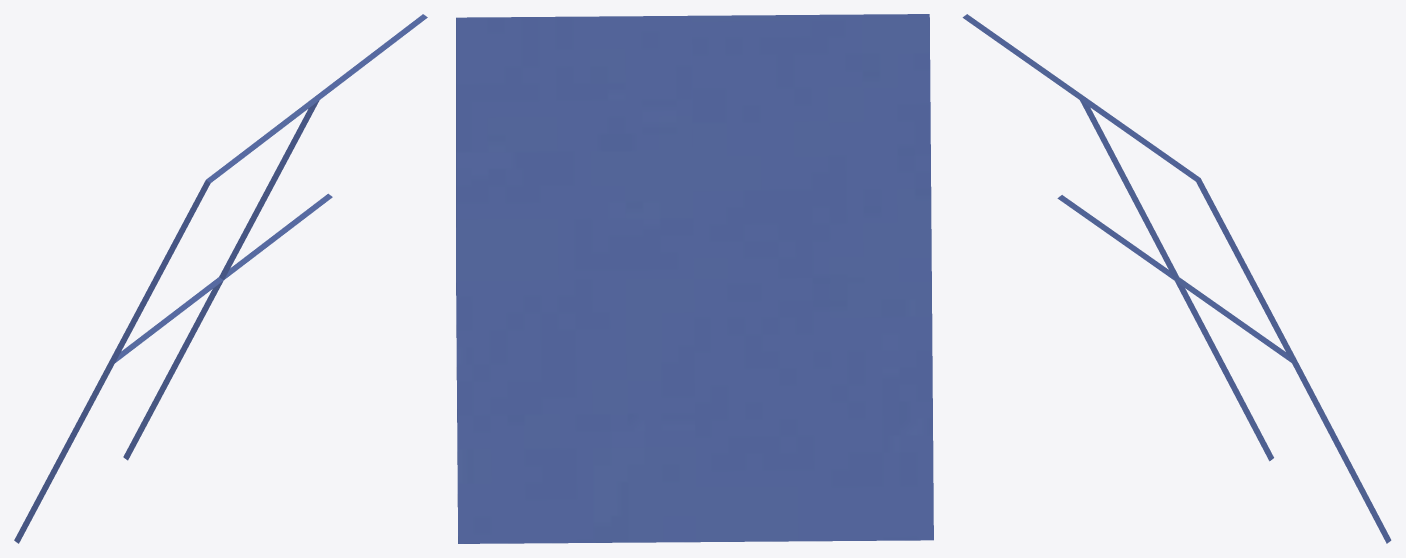
3 views of the same model, side by side, from view 1: azimuth 30°, elevation 25°; view 2: azimuth 150°, elevation 25°; view 3: azimuth 270°, elevation 25° (orthographic). The views are drawn at different scales.
Bounding box in the file's own units: 19676 × 17712 × 16711.
Materials: 1 (1 with a texture image).
